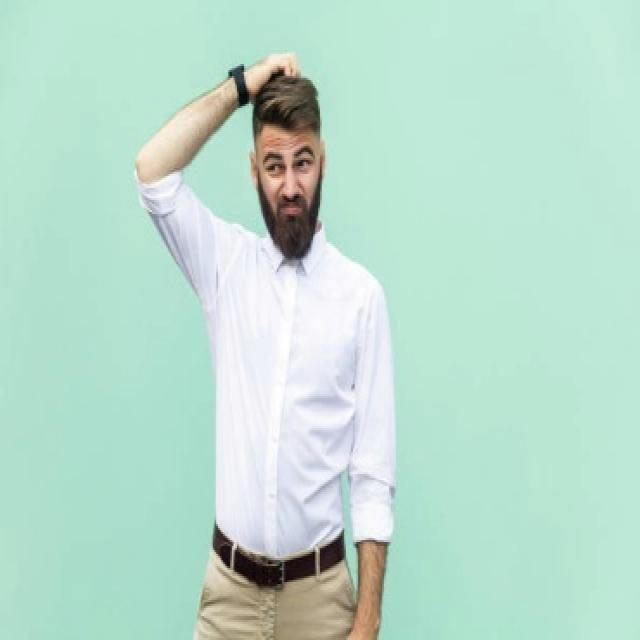adult: (130, 49, 410, 636)
